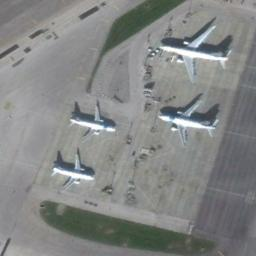Airplane: (154, 23, 234, 89), (155, 98, 222, 152), (68, 101, 118, 146), (52, 150, 96, 198)
